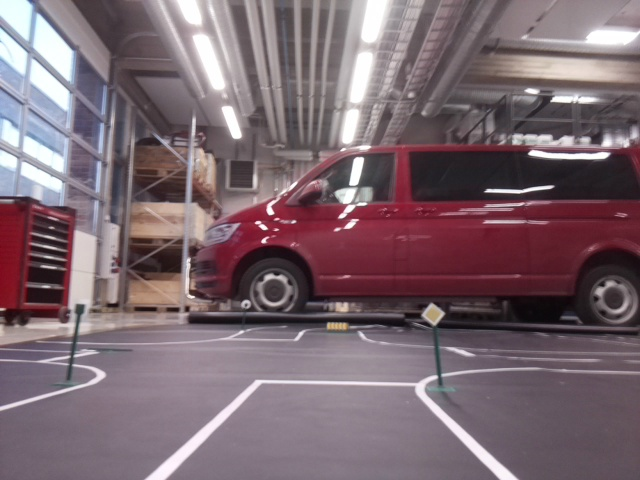Priority: (421, 302, 445, 324)
